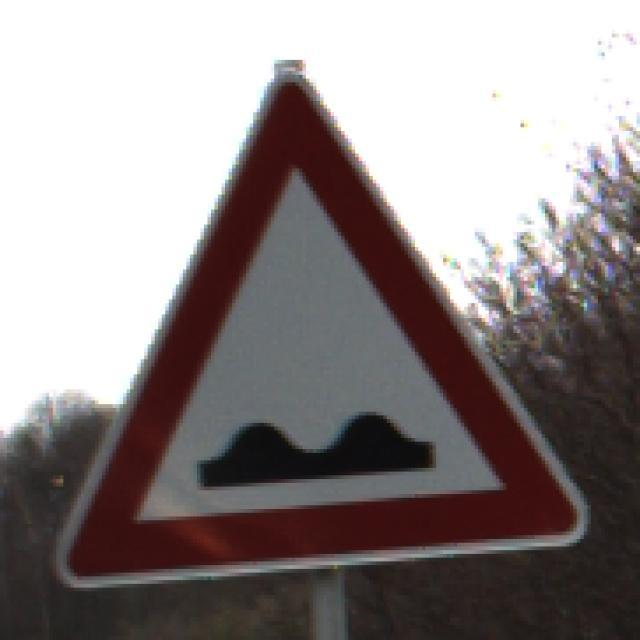hump or rough road: (50, 54, 592, 595)
